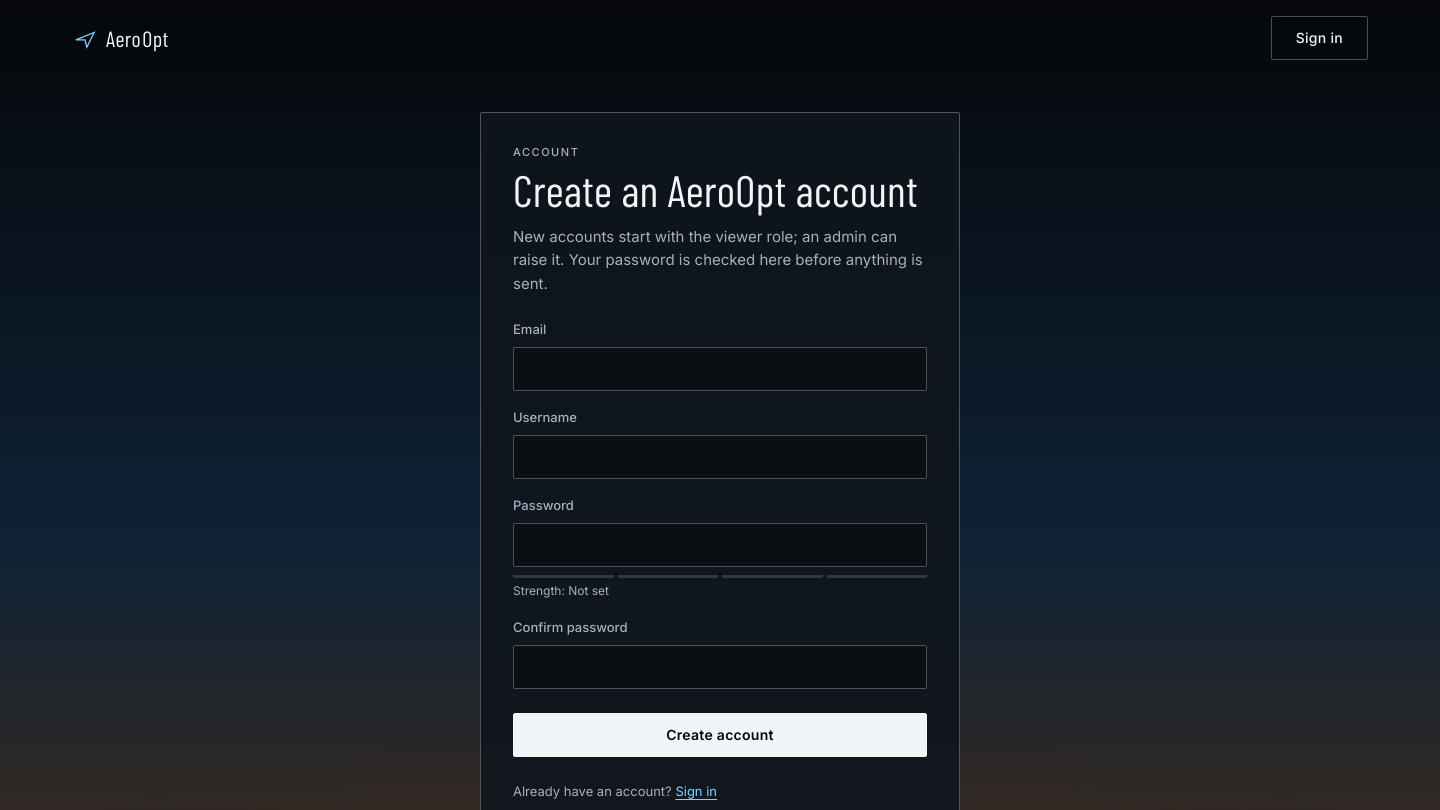
Scenario: /signup page › valid details: registers, signs in and opens the console
The image size is (1440, 810).
Expected: the heading "Create an AeroOpt account" is shown, [513,167,927,213]
Type "pilot@example.org" into the field labelled "Email" at (720, 369), box [513,347,927,391]
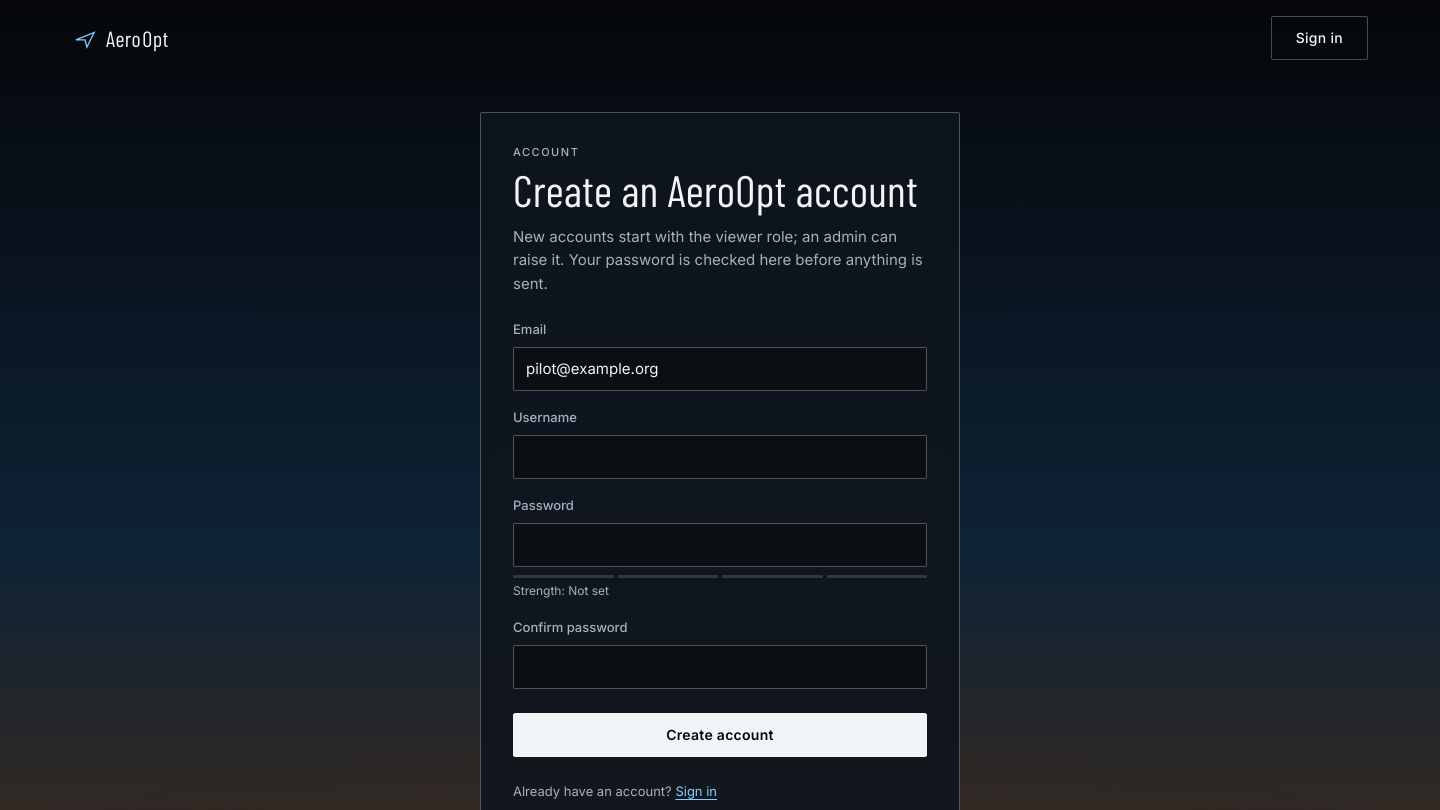
Type "ops.planner" into the field labelled "Username" at (720, 457), box [513,435,927,479]
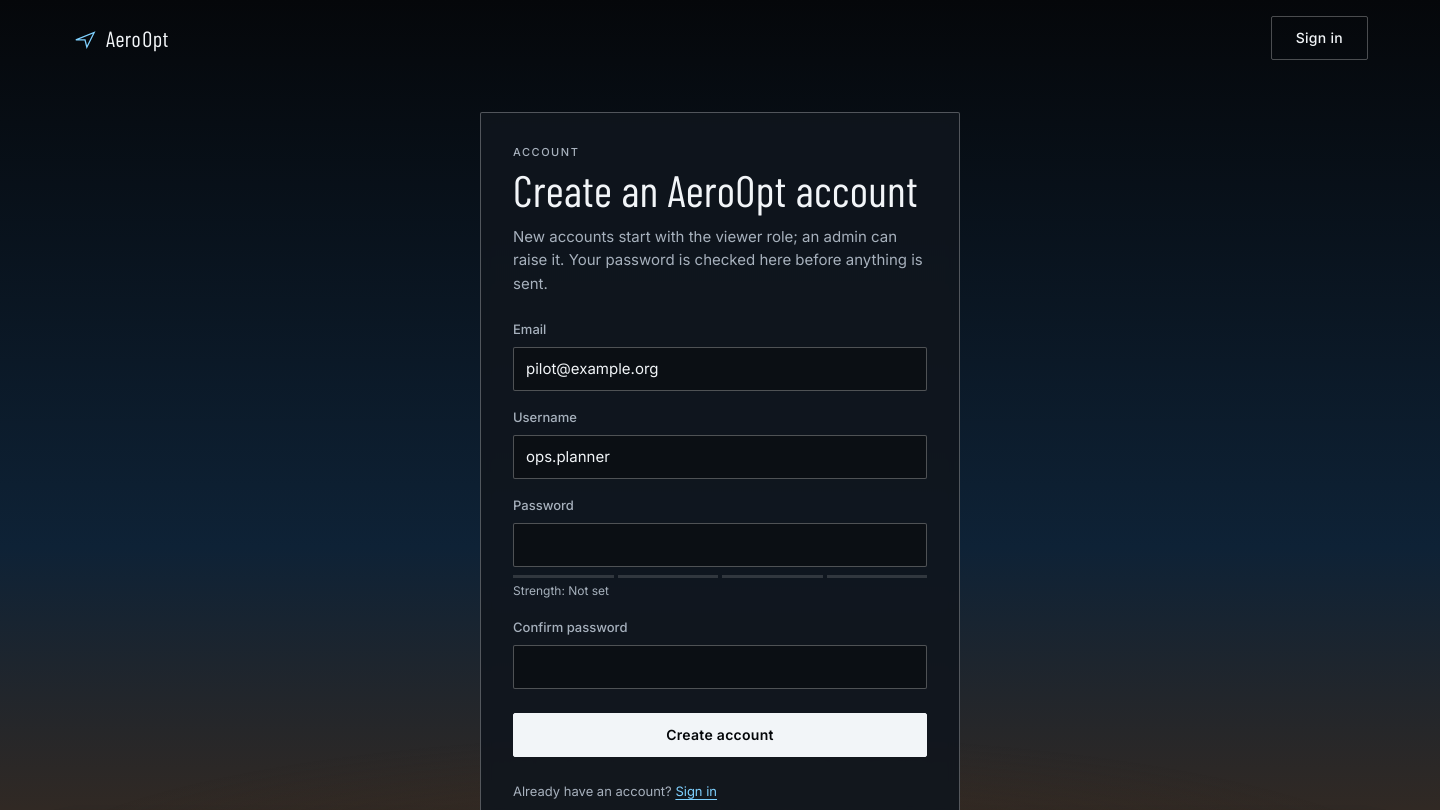
Type "Runway-27Left!" into the password field labelled "Password" at (720, 545), box [513,523,927,567]
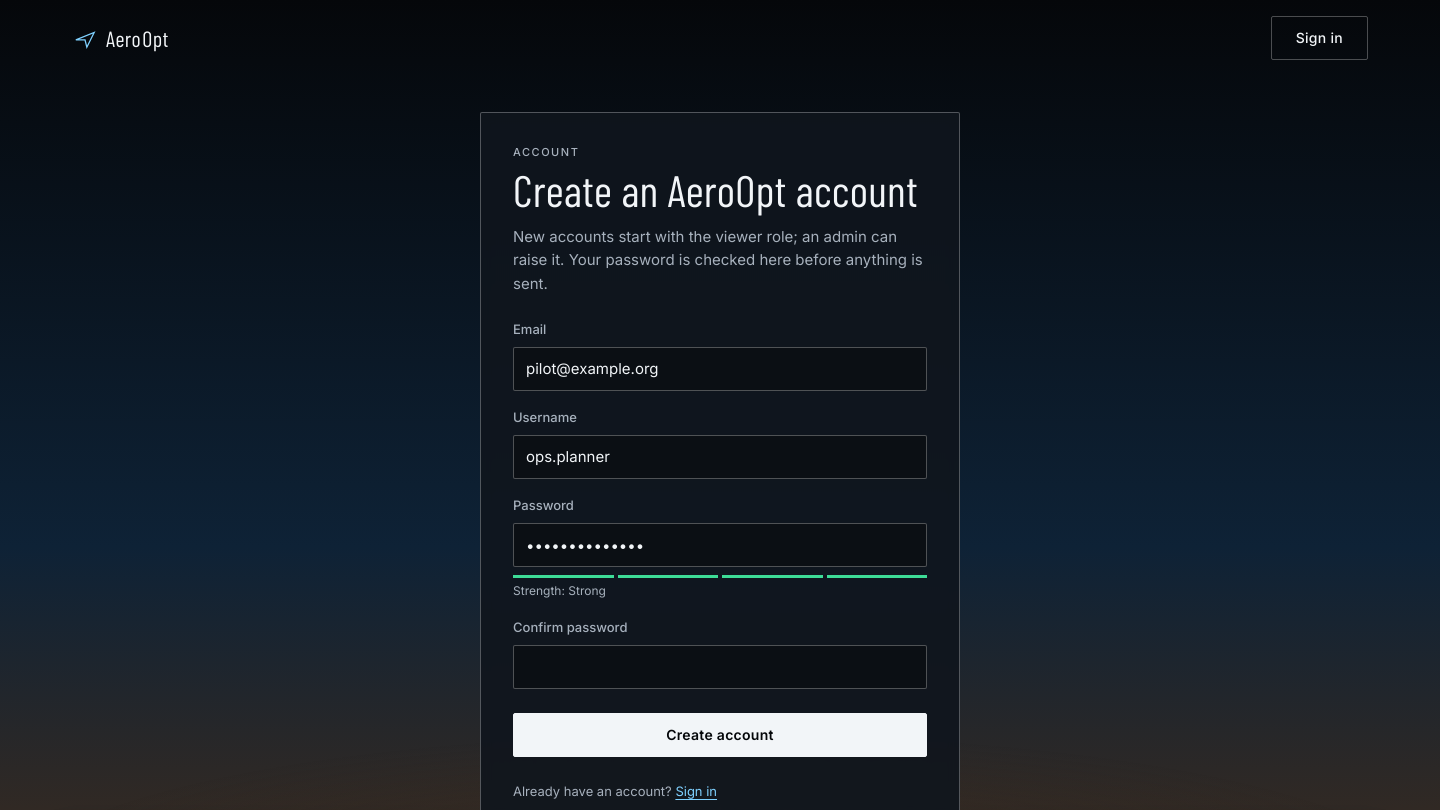
Type "Runway-27Left!" into the password field labelled "Confirm password" at (720, 667), box [513,645,927,689]
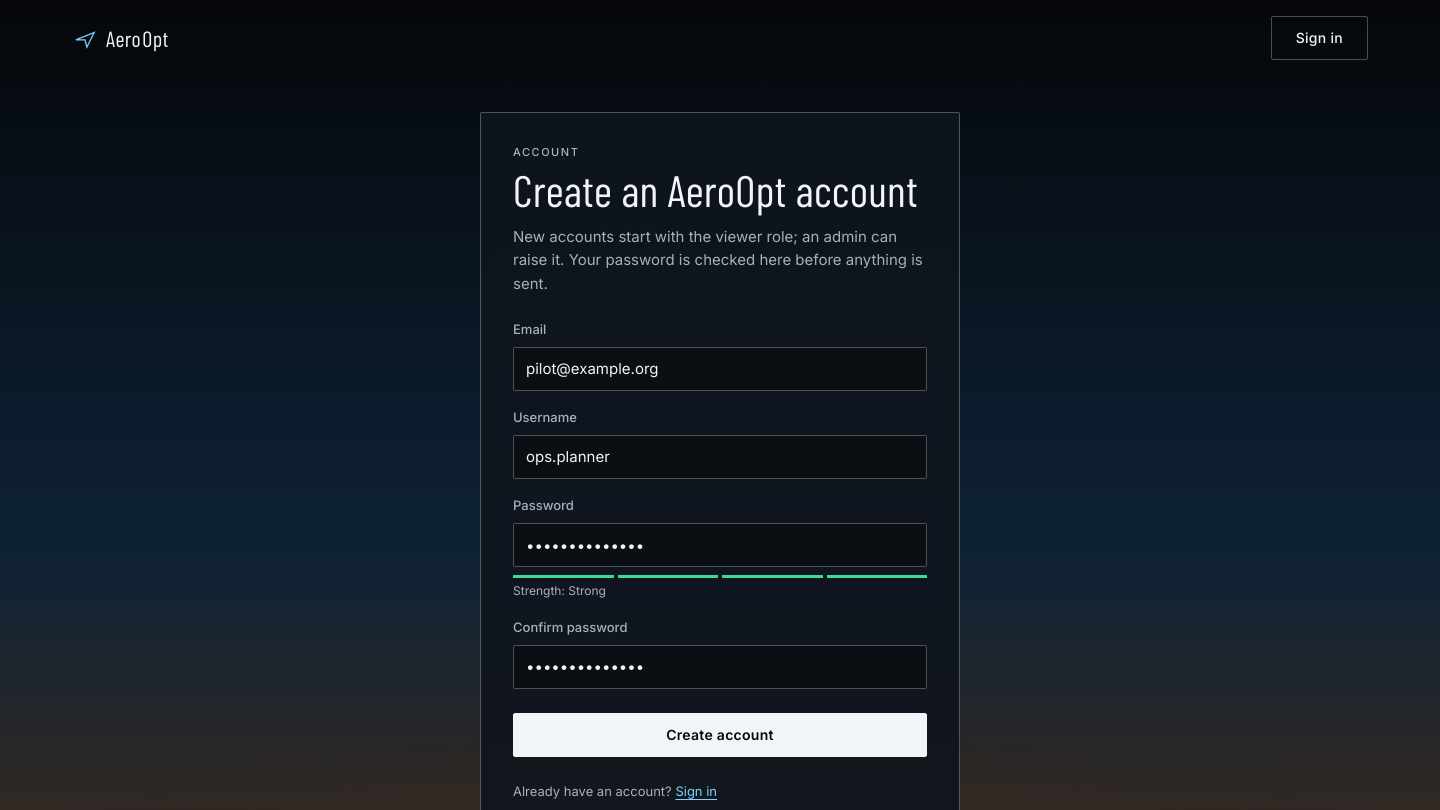
Click the button "Create account" at (720, 735), box [513,713,927,757]
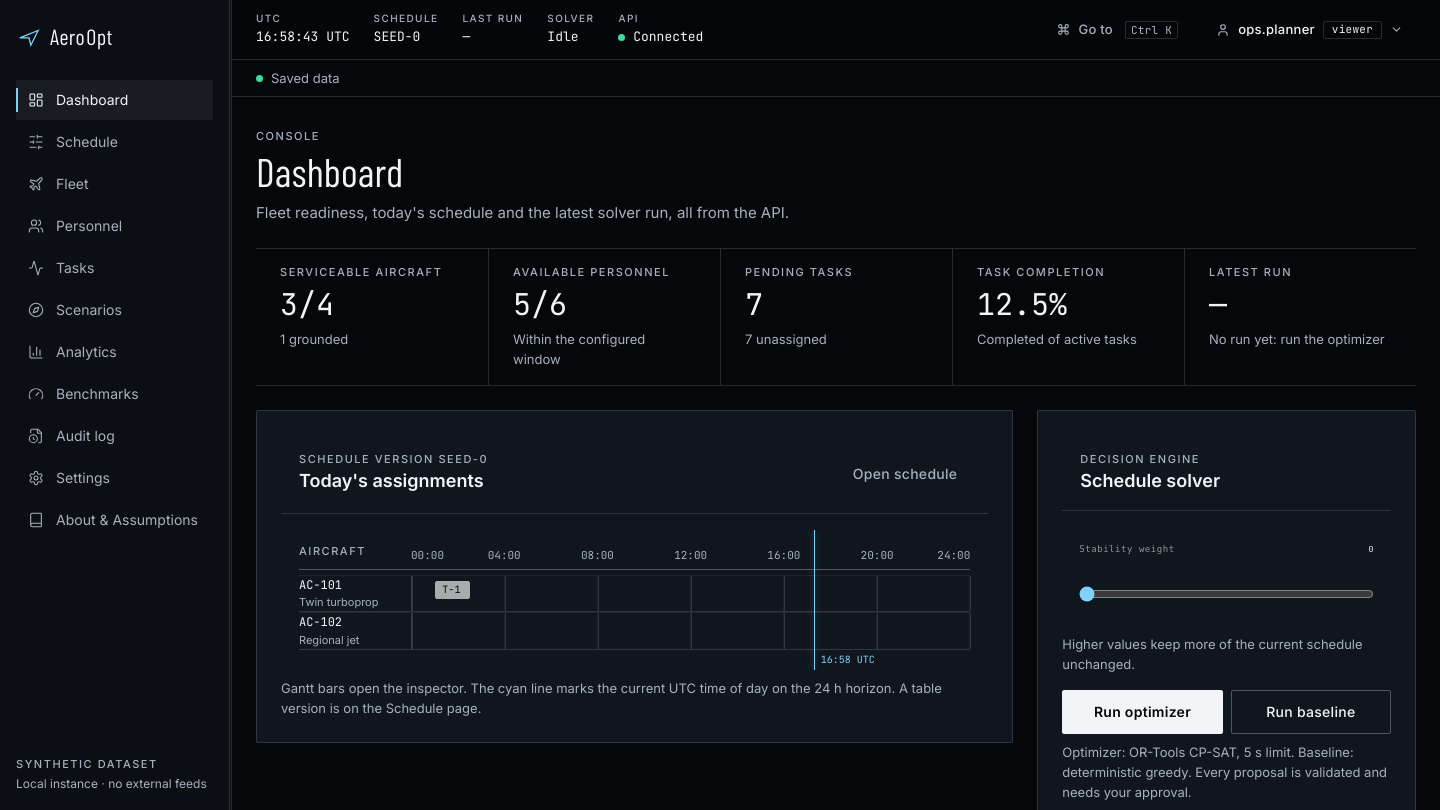
Expected: the heading "Dashboard" is shown, [256,147,403,195]
Expected: the button "ops.planner viewer" is shown, [1203,12,1416,48]
